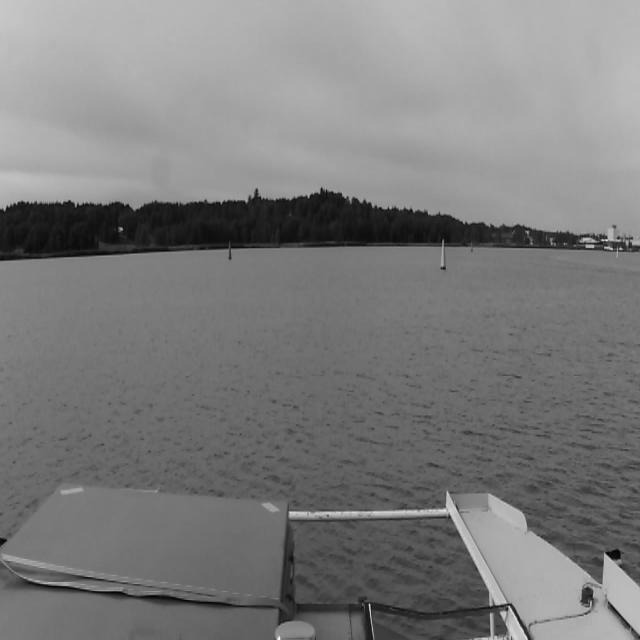buoy: (440, 239, 446, 270), (228, 242, 232, 260), (616, 246, 619, 259), (471, 242, 473, 252)
